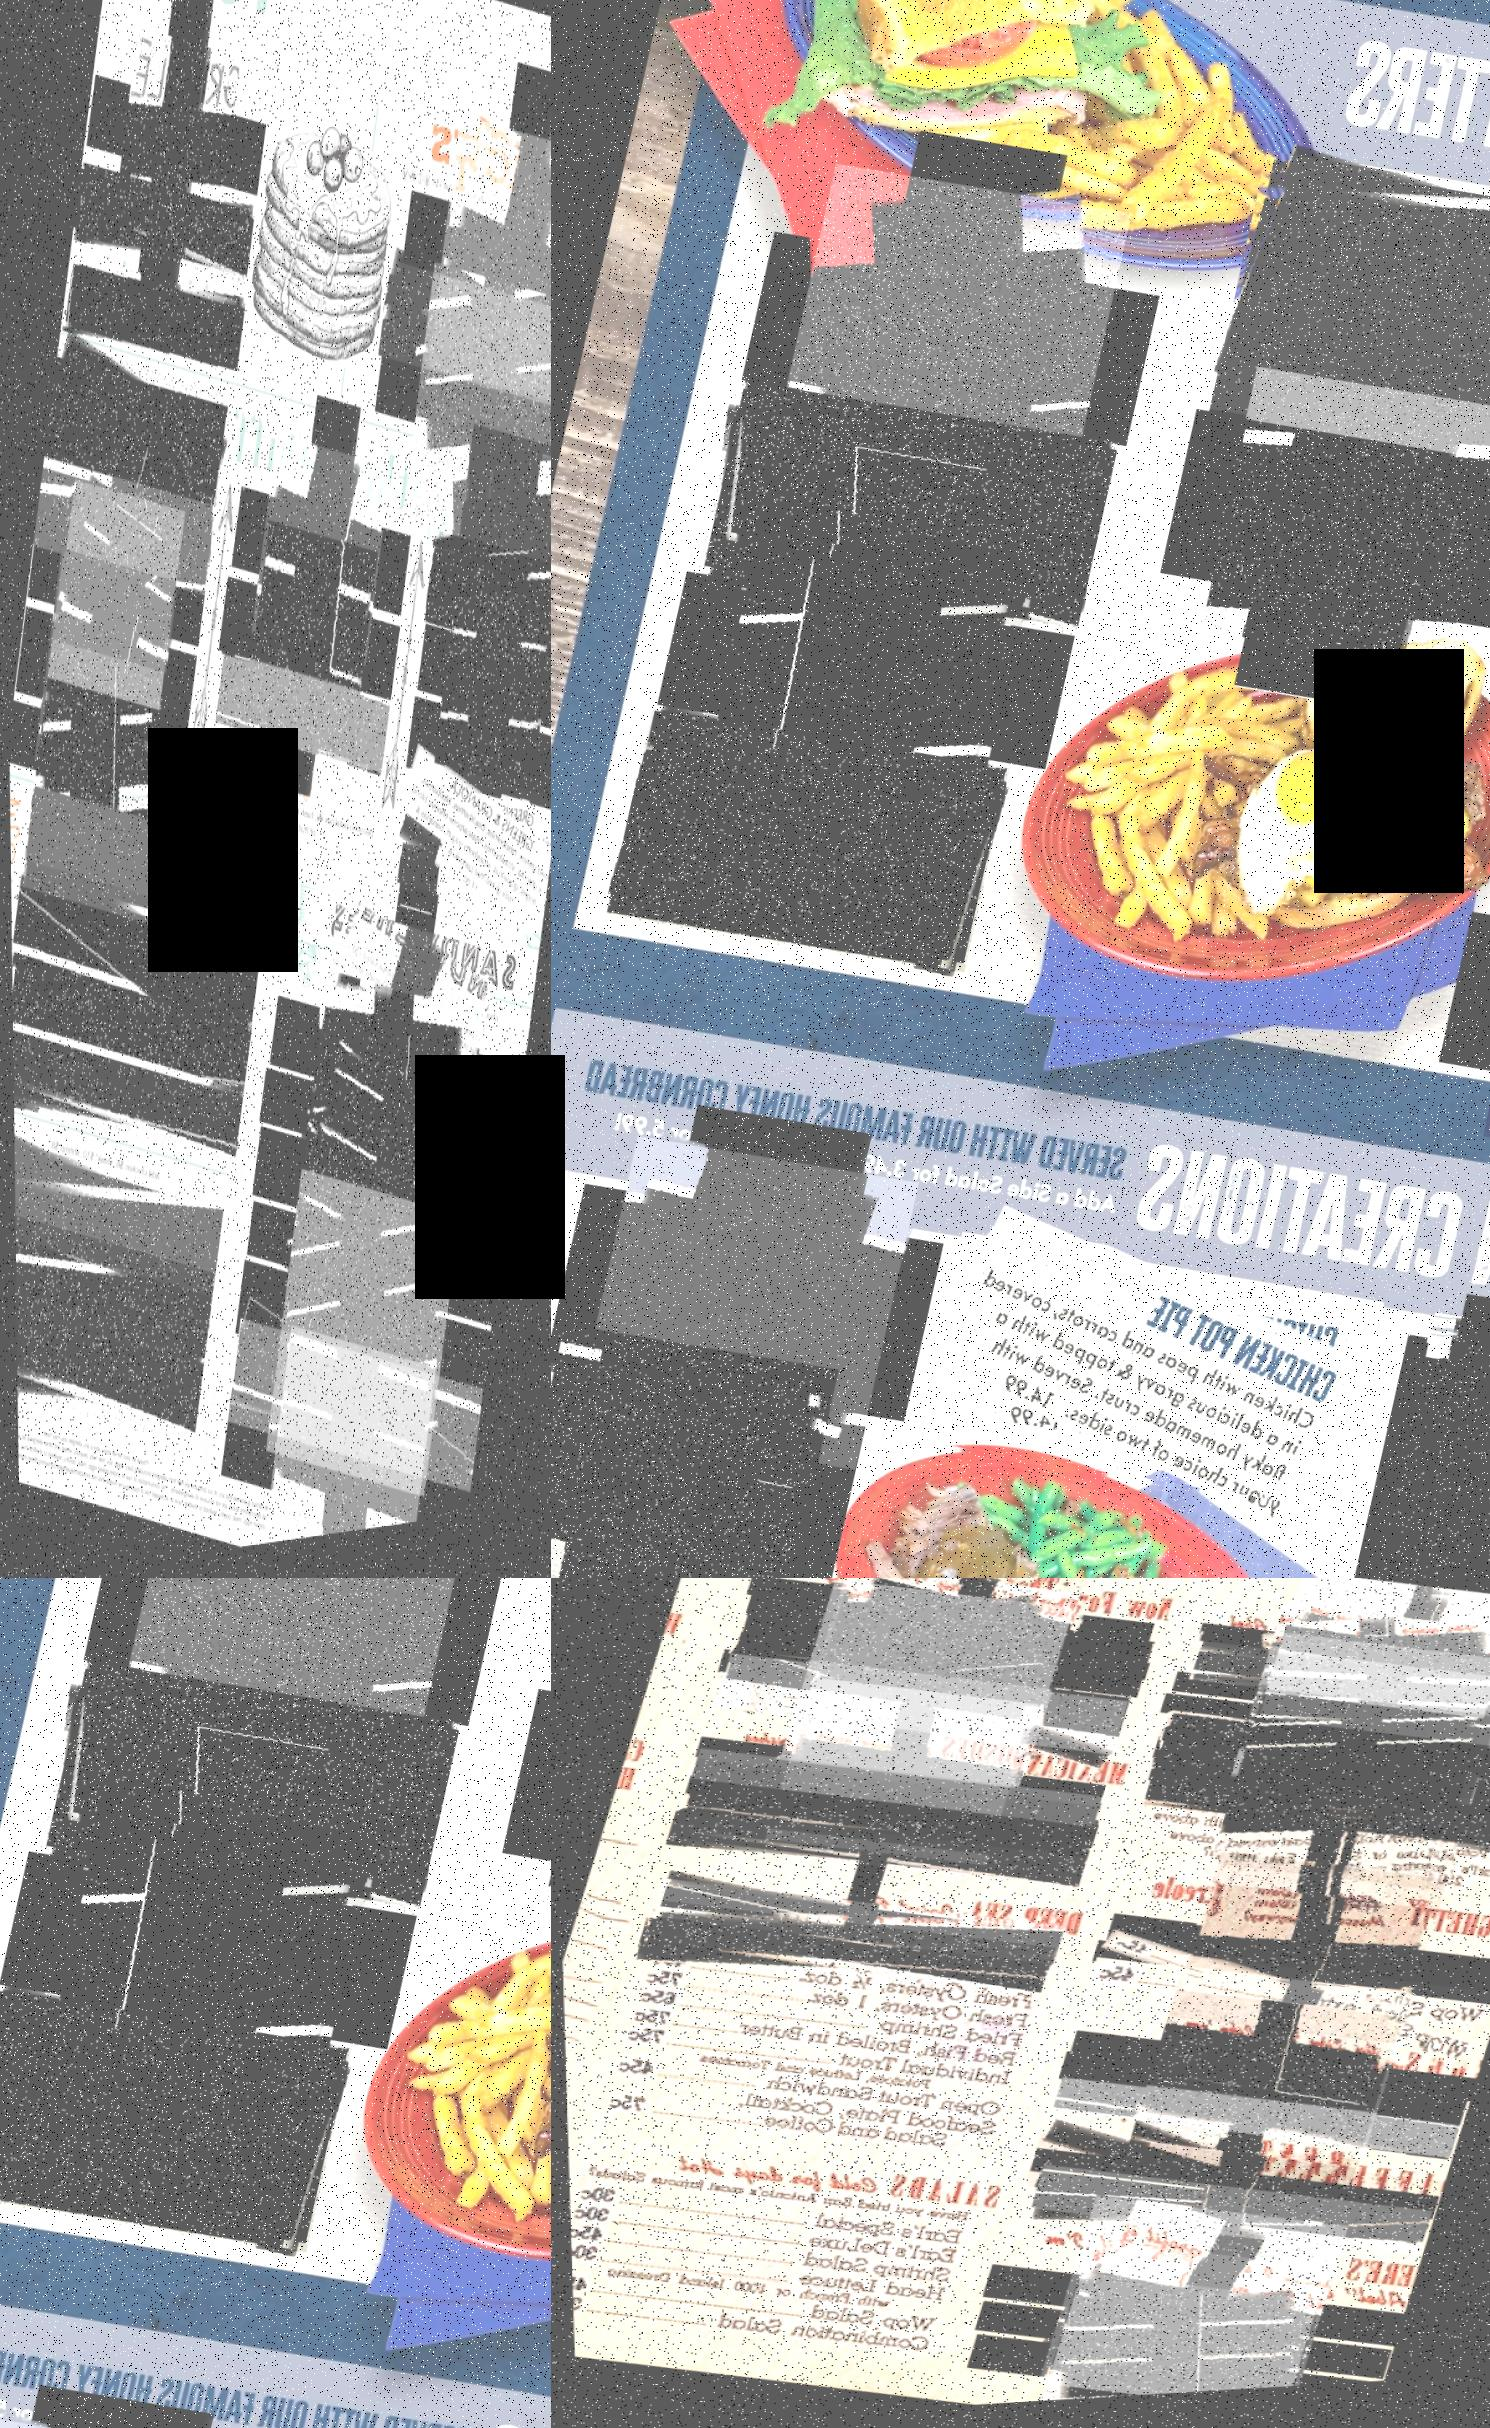Menu-Items: (902, 1204, 1381, 1557), (760, 153, 1134, 543), (557, 1120, 916, 1495), (687, 361, 1117, 671), (29, 1641, 460, 1951), (595, 689, 1008, 1008), (28, 1778, 376, 2140), (687, 498, 1034, 860), (0, 1968, 349, 2288), (1200, 142, 1490, 513), (1186, 364, 1490, 706), (101, 1578, 475, 1823), (552, 1308, 831, 1578), (258, 1160, 458, 1526), (278, 1027, 475, 1387), (297, 900, 491, 1257), (770, 1578, 1075, 1805), (1029, 2194, 1346, 2407), (272, 1100, 465, 1448), (288, 968, 479, 1315), (676, 1741, 1103, 1892), (1204, 1689, 1490, 1911), (9, 832, 262, 1082), (1160, 1852, 1448, 2069), (1126, 1967, 1414, 2183), (1115, 1991, 1403, 2206), (1077, 1934, 1490, 2083), (1223, 1604, 1490, 1831), (222, 1299, 480, 1533), (14, 758, 272, 992), (1018, 2121, 1440, 2263), (706, 1637, 1127, 1779), (791, 1578, 1084, 1781), (760, 1670, 1039, 1882), (1153, 1882, 1431, 2090), (588, 2053, 1003, 2187), (798, 1578, 1093, 1764), (1228, 1634, 1490, 1842), (1023, 2154, 1428, 2288), (647, 1861, 1062, 1989), (595, 2001, 1016, 2126), (664, 1793, 1086, 1916), (640, 1883, 1049, 2010), (631, 1901, 1046, 2026), (1029, 2234, 1327, 2407), (397, 260, 552, 595), (687, 1733, 1103, 1856), (1048, 2066, 1457, 2187), (803, 1578, 1096, 1745), (1251, 1578, 1490, 1778), (673, 1778, 1089, 1890), (593, 2034, 1008, 2147), (10, 933, 248, 1129), (10, 999, 239, 1200), (10, 1106, 220, 1323), (626, 1948, 1041, 2057), (631, 1927, 1034, 2038), (12, 1181, 212, 1400), (612, 1982, 1016, 2090), (40, 324, 232, 548), (624, 1968, 1029, 2074), (1148, 1719, 1490, 1844), (805, 1578, 1095, 1724), (1140, 1766, 1490, 1885), (255, 1318, 434, 1550), (423, 118, 552, 439), (1029, 2267, 1317, 2407), (12, 1264, 201, 1474), (29, 543, 177, 812), (1348, 1308, 1490, 1578), (1155, 1703, 1490, 1818), (1180, 1634, 1490, 1757), (246, 430, 390, 694), (375, 251, 552, 465), (23, 630, 167, 891), (43, 470, 186, 727), (238, 520, 376, 775), (29, 439, 217, 623), (387, 749, 552, 957), (108, 17, 241, 262), (59, 236, 245, 404), (71, 146, 255, 310), (208, 642, 389, 805), (422, 656, 545, 881), (430, 581, 552, 805), (446, 428, 552, 662), (422, 546, 552, 699)
